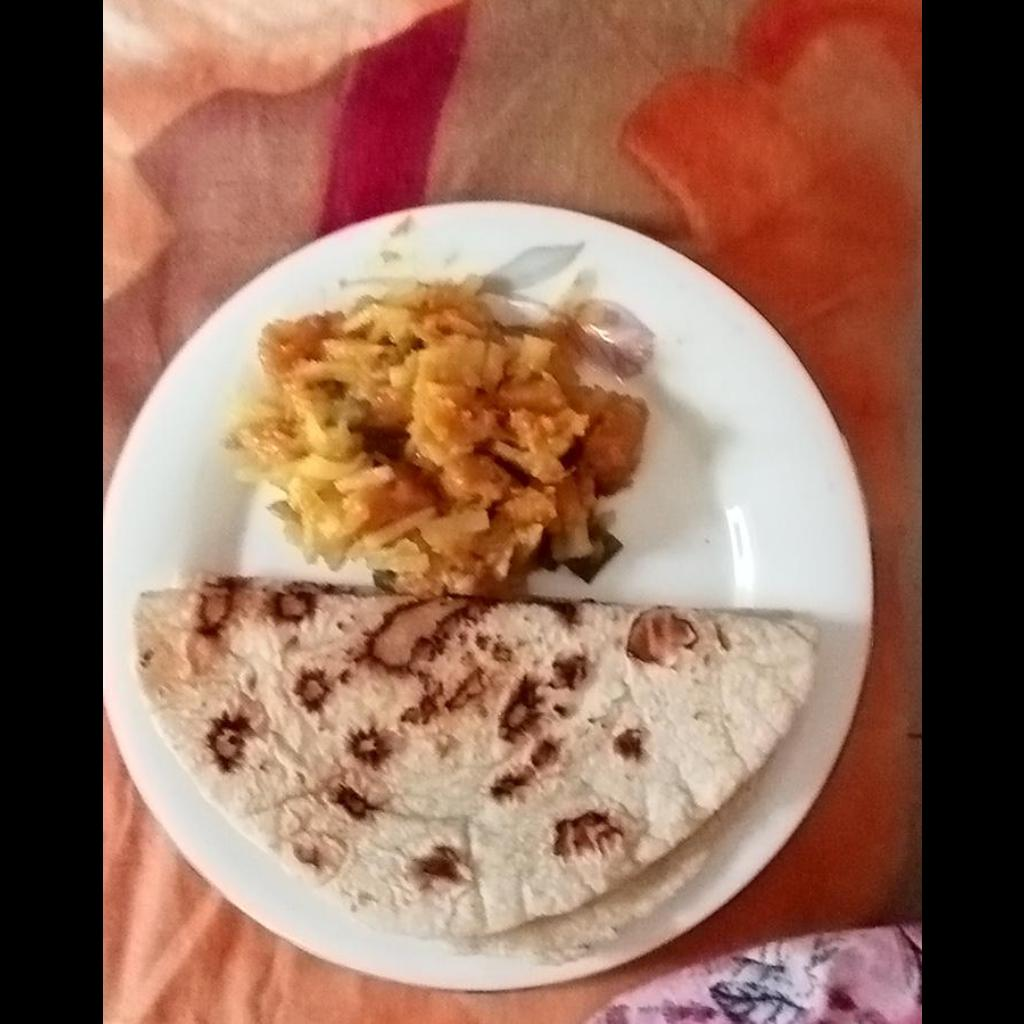ruti: (133, 570, 822, 961)
vaji: (209, 276, 653, 587)
